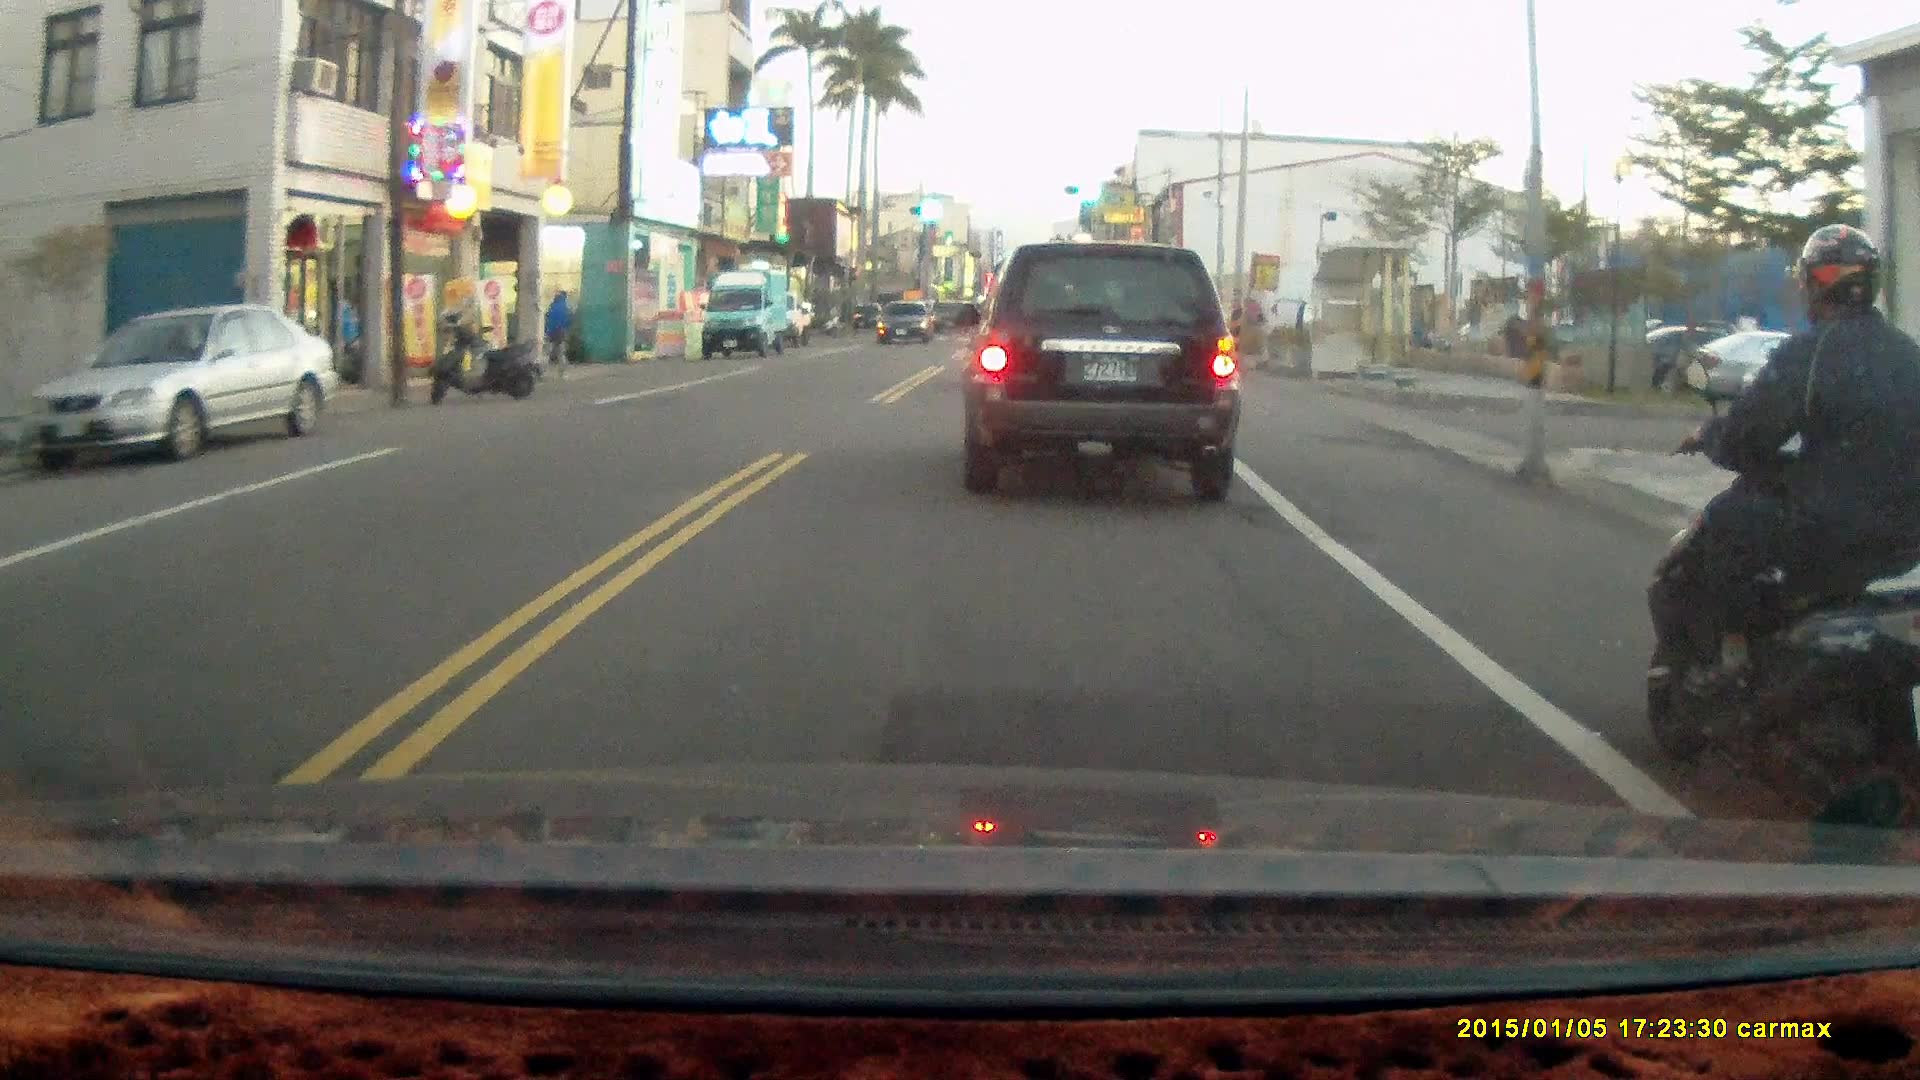pedestrian: (539, 284, 572, 380)
rider: (1640, 219, 1920, 868)
vehicle: (962, 241, 1243, 508), (19, 302, 335, 464), (699, 264, 794, 360), (876, 298, 936, 343)
